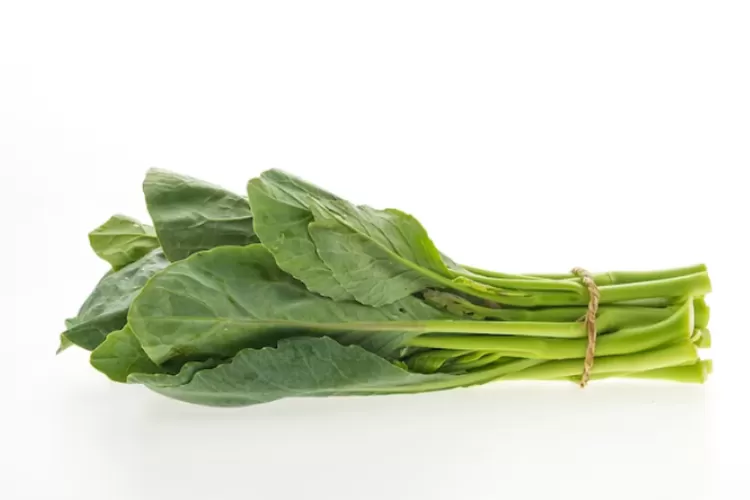Sawi: (75, 148, 736, 414)
